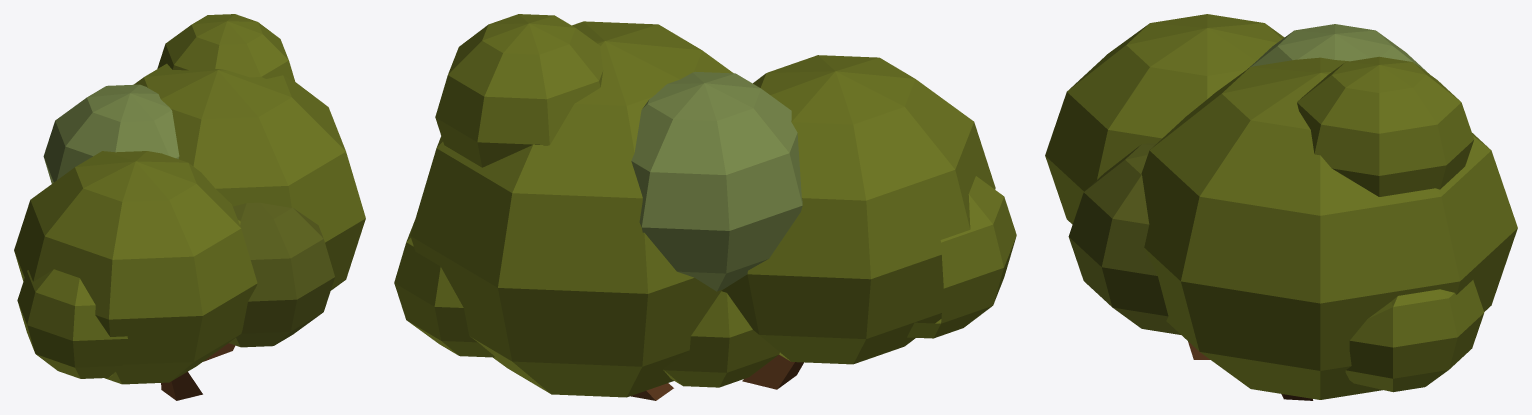
The model's file is bush_.glb.
3 renders of one model, left to right at view 1: azimuth 30°, elevation 25°; view 2: azimuth 150°, elevation 25°; view 3: azimuth 270°, elevation 25°, orthographic. The views are drawn at different scales.
Parts seen in each view (by area): view 1: Sphere, Sphere.004, Sphere.002, Sphere.003, Sphere.006, Sphere.005, Cube; view 2: Sphere.004, Sphere, Sphere.003, Sphere.005, Sphere.006, Sphere.007, Sphere.001, Cube; view 3: Sphere.004, Sphere, Sphere.005, Sphere.002, Sphere.001, Sphere.003.
Boxes of the visible parts, x1,y1,x2,y2 form: Sphere: [14, 151, 257, 384]; Sphere.004: [134, 63, 365, 290]; Sphere.002: [229, 202, 334, 347]; Sphere.003: [43, 84, 179, 183]; Sphere.006: [17, 269, 127, 378]; Sphere.005: [157, 14, 295, 83]; Cube: [161, 371, 202, 400]; Sphere.004: [410, 21, 733, 397]; Sphere: [721, 55, 995, 364]; Sphere.003: [631, 71, 802, 291]; Sphere.005: [435, 14, 603, 167]; Sphere.006: [907, 176, 1016, 338]; Sphere.007: [663, 291, 779, 387]; Sphere.001: [394, 220, 494, 357]; Cube: [742, 354, 803, 389]; Sphere.004: [1141, 57, 1517, 399]; Sphere: [1045, 14, 1284, 224]; Sphere.005: [1297, 56, 1474, 196]; Sphere.002: [1068, 143, 1180, 334]; Sphere.001: [1345, 280, 1484, 392]; Sphere.003: [1248, 24, 1428, 73].
Bounding box in the file's own units: 6.13 × 4.57 × 5.52.
